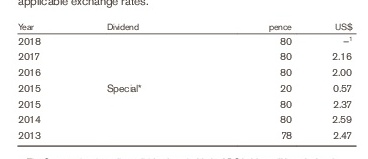table: (0, 0, 368, 159)
